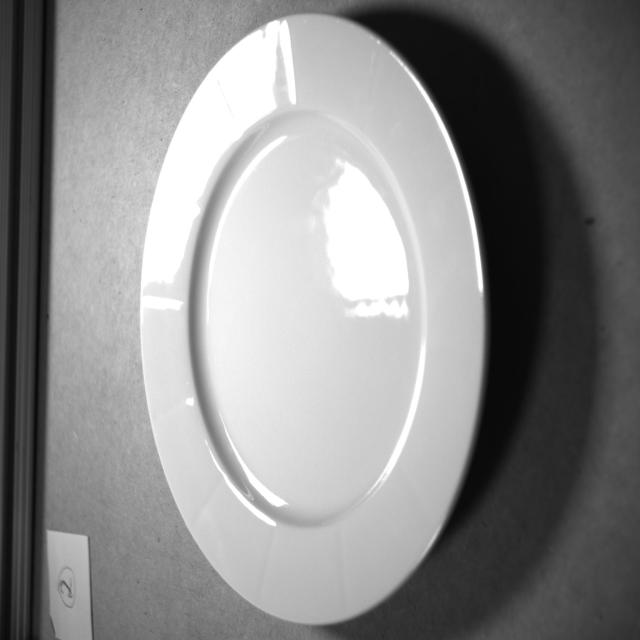plate: (140, 15, 485, 624)
